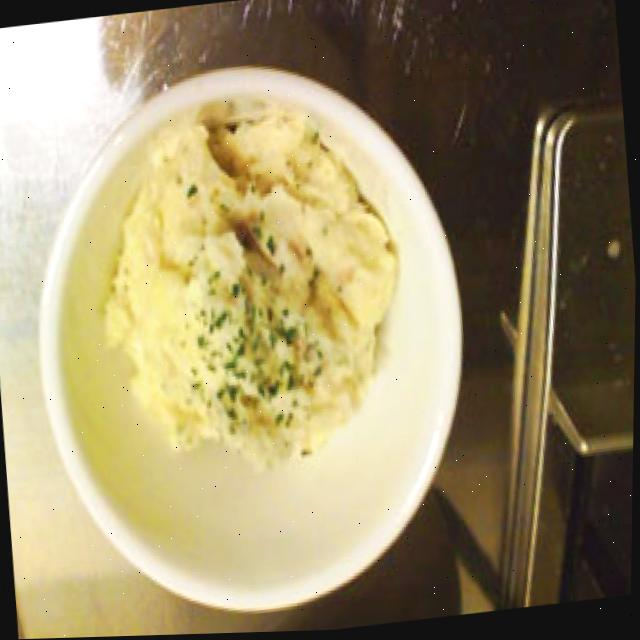蔬菜料理: (13, 44, 488, 640)
